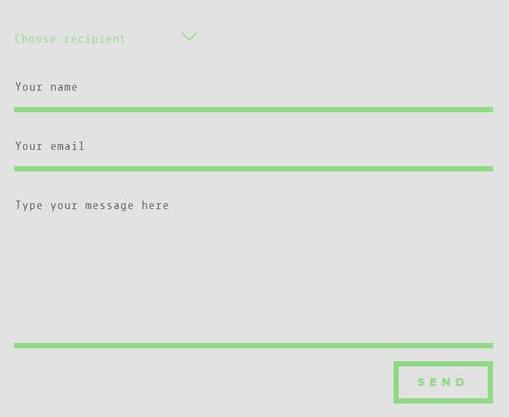button: (394, 361, 494, 405)
field_line: (12, 197, 495, 350), (12, 79, 497, 115), (11, 138, 495, 173)
